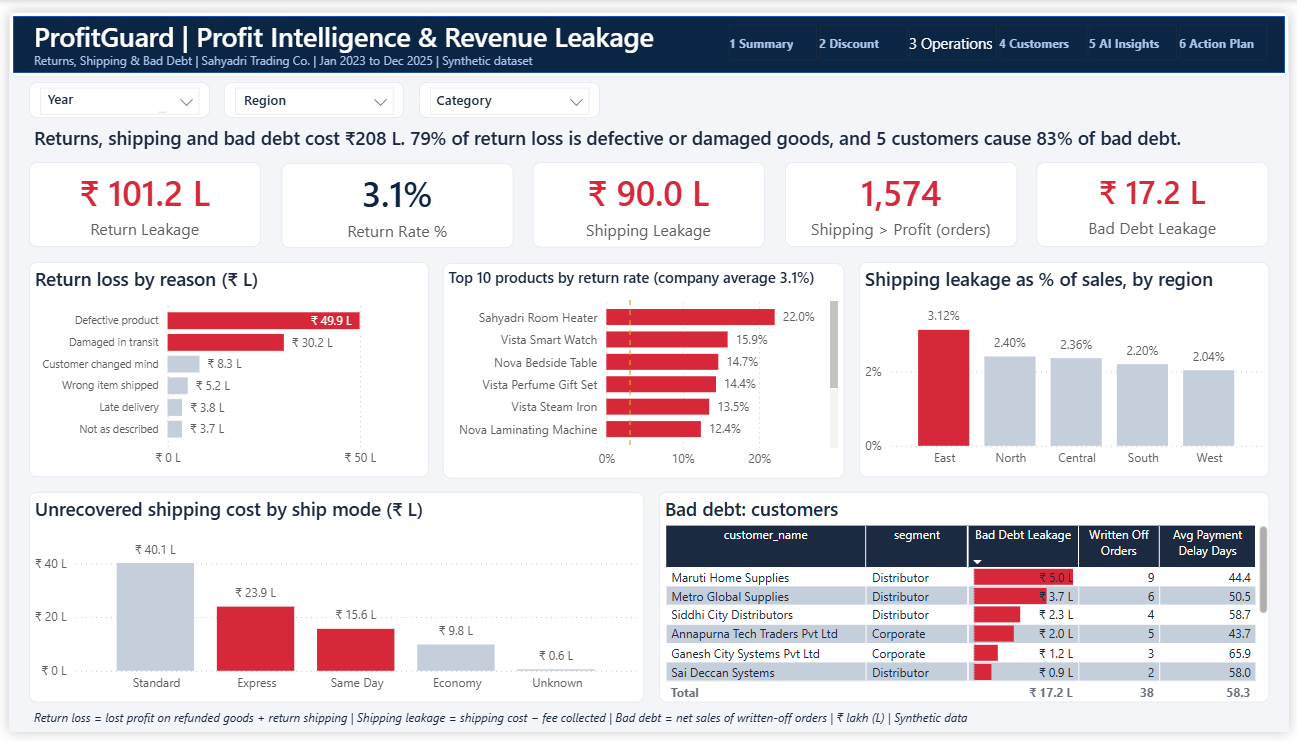

The page's visual inventory and layout, read from the dashboard file:
{"tool":"powerbi","page":{"name":"3 Operations","canvas":[1280,720],"ordinal":2},"visuals":[{"type":"shape","box":[0,0,1280,65],"z":0},{"type":"textbox","title":"ProfitGuard | Profit Intelligence & Revenue Leakage","box":[20,6,720,38],"z":1000},{"type":"textbox","title":"Returns, Shipping & Bad Debt | Sahyadri Trading Co. | Jan 2023 to Dec 2025 | Synthetic dataset","box":[20.5,40,720,20],"z":2000},{"type":"slicer","fields":{"Values":["profitguard dim_location.region"]},"box":[215,70,180,36],"z":3000},{"type":"slicer","title":"Year","fields":{"Values":["profitguard dim_date.year"]},"box":[20.5,70,181,36.2],"z":4000},{"type":"slicer","fields":{"Values":["profitguard dim_product.category"]},"box":[410,70,181,36.2],"z":5000},{"type":"textbox","title":"Returns, shipping and bad debt cost ₹208 L. 79% of return loss is defective or damaged goods, and 5 customers cause 83% of bad debt. ","box":[20,112,1240,30],"z":6000},{"type":"textbox","title":" Return loss = lost profit on refunded goods + return shipping | Shipping leakage = shipping cost − fee collected | Bad debt = net sales of written-off orders | ₹ lakh (L) | Synthetic data","box":[20,697,1240.2,20],"z":7000},{"type":"card","fields":{"Values":["Table.Return Leakage"]},"box":[20,150,232,85],"z":8000},{"type":"card","fields":{"Values":["Table.Return Rate %"]},"box":[272,150.8,232,85],"z":9000},{"type":"card","fields":{"Values":["Table.Bad Debt Leakage"]},"box":[1028,150,232,85],"z":10000},{"type":"card","fields":{"Values":["Table.Orders Where Shipping Exceeds Profit"]},"box":[776,150,232,85],"z":11000},{"type":"card","fields":{"Values":["Table.Shipping Leakage"]},"box":[524,150,232,85.7],"z":12000},{"type":"pageNavigator","box":[720,12,540,36],"z":13000},{"type":"textbox","title":"Year","box":[34.2,78,124.2,23],"z":14000},{"type":"textbox","title":"Region","box":[229.9,78.4,124.7,22.7],"z":15000},{"type":"textbox","title":"Category","box":[422,78.4,124.7,22.6],"z":16000},{"type":"clusteredBarChart","title":"Return loss by reason (₹ L)","fields":{"Category":["profitguard vw_return_loss.return_reason"],"Y":["Table.Return Leakage"]},"box":[20,250,400,215],"z":17000},{"type":"clusteredBarChart","title":" Top 10 products by return rate (company average 3.1%)","fields":{"Category":["profitguard dim_product.product_name"],"Y":["Table.Return Rate %"]},"box":[434.3,250.7,401.5,214.9],"z":18000},{"type":"clusteredColumnChart","title":"Shipping leakage as % of sales, by region","fields":{"Category":["profitguard dim_location.region"],"Y":["Table.Shipping Leakage %"]},"box":[850,250,410,215],"z":19000},{"type":"clusteredColumnChart","title":"Unrecovered shipping cost by ship mode (₹ L)","fields":{"Category":["profitguard vw_order_leakage.ship_mode"],"Y":["Table.Shipping Leakage"]},"box":[20,480,615,210],"z":20000},{"type":"tableEx","title":"Bad debt: customers","fields":{"Values":["profitguard dim_customer.customer_name","profitguard dim_customer.segment","Table.Bad Debt Leakage","Table.Written Off Orders","Table.Avg Payment Delay Days"]},"box":[650,480,610,210],"z":21000}]}

Visuals, with their boxes in screenshot pixels (x1, y1, x2, y2), scaled from the page's 1280x720 canvas onto the 1297x741 screenshot:
shape: (left=0, top=0, right=1296, bottom=67)
"ProfitGuard | Profit Intelligence & Revenue Leakage" textbox: (left=20, top=6, right=750, bottom=45)
"Returns, Shipping & Bad Debt | Sahyadri Trading Co. | Jan 2023 to Dec 2025 | Synthetic dataset" textbox: (left=21, top=41, right=750, bottom=62)
slicer - profitguard dim_location.region: (left=218, top=72, right=400, bottom=109)
"Year" slicer: (left=21, top=72, right=204, bottom=109)
slicer - profitguard dim_product.category: (left=415, top=72, right=599, bottom=109)
"Returns, shipping and bad debt cost ₹208 L. 79% of return loss is defective or damaged goods, and 5 customers cause 83% of bad debt. " textbox: (left=20, top=115, right=1277, bottom=146)
" Return loss = lost profit on refunded goods + return shipping | Shipping leakage = shipping cost − fee collected | Bad debt = net sales of written-off orders | ₹ lakh (L) | Synthetic data" textbox: (left=20, top=717, right=1277, bottom=738)
card - Table.Return Leakage: (left=20, top=154, right=255, bottom=242)
card - Table.Return Rate %: (left=276, top=155, right=511, bottom=243)
card - Table.Bad Debt Leakage: (left=1042, top=154, right=1277, bottom=242)
card - Table.Orders Where Shipping Exceeds Profit: (left=786, top=154, right=1021, bottom=242)
card - Table.Shipping Leakage: (left=531, top=154, right=766, bottom=243)
pageNavigator: (left=730, top=12, right=1277, bottom=49)
"Year" textbox: (left=35, top=80, right=161, bottom=104)
"Region" textbox: (left=233, top=81, right=359, bottom=104)
"Category" textbox: (left=428, top=81, right=554, bottom=104)
"Return loss by reason (₹ L)" clusteredBarChart: (left=20, top=257, right=426, bottom=479)
" Top 10 products by return rate (company average 3.1%)" clusteredBarChart: (left=440, top=258, right=847, bottom=479)
"Shipping leakage as % of sales, by region" clusteredColumnChart: (left=861, top=257, right=1277, bottom=479)
"Unrecovered shipping cost by ship mode (₹ L)" clusteredColumnChart: (left=20, top=494, right=643, bottom=710)
"Bad debt: customers" tableEx: (left=659, top=494, right=1277, bottom=710)
